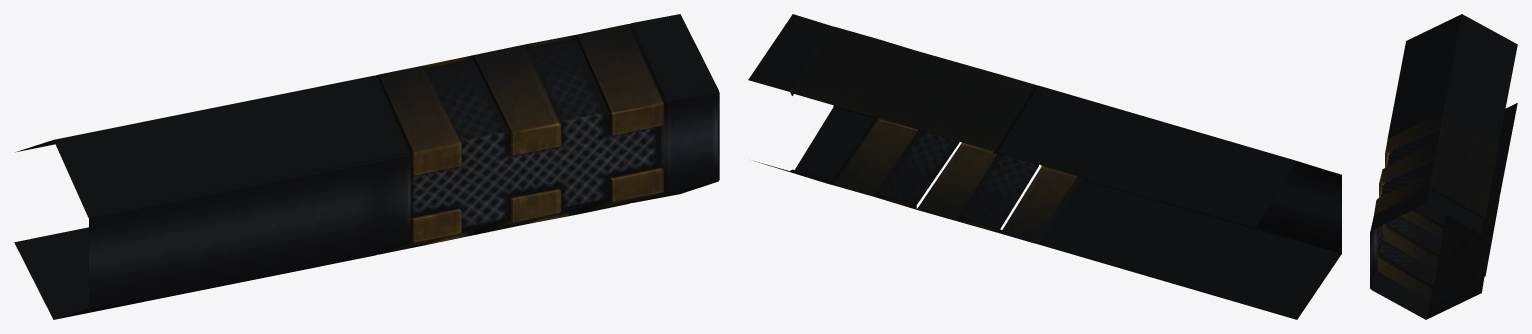
File: v_rock_0.obj
The picture shows the model from 3 angles, left to right: view 1: azimuth 30°, elevation 25°; view 2: azimuth 150°, elevation 25°; view 3: azimuth 270°, elevation 25°; orthographic projection. The views are drawn at different scales.
Bounding box in the file's own units: 18.85 × 5.28 × 6.06.
Materials: 1 (1 with a texture image).
